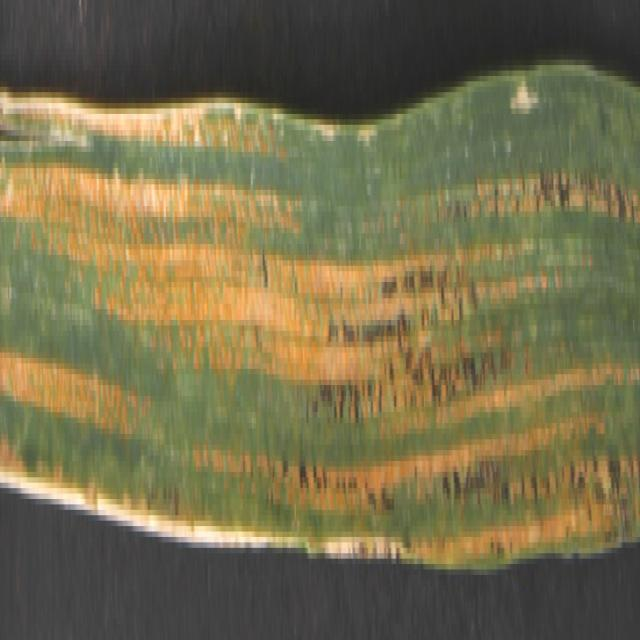leaf rust: (1, 98, 640, 553)
